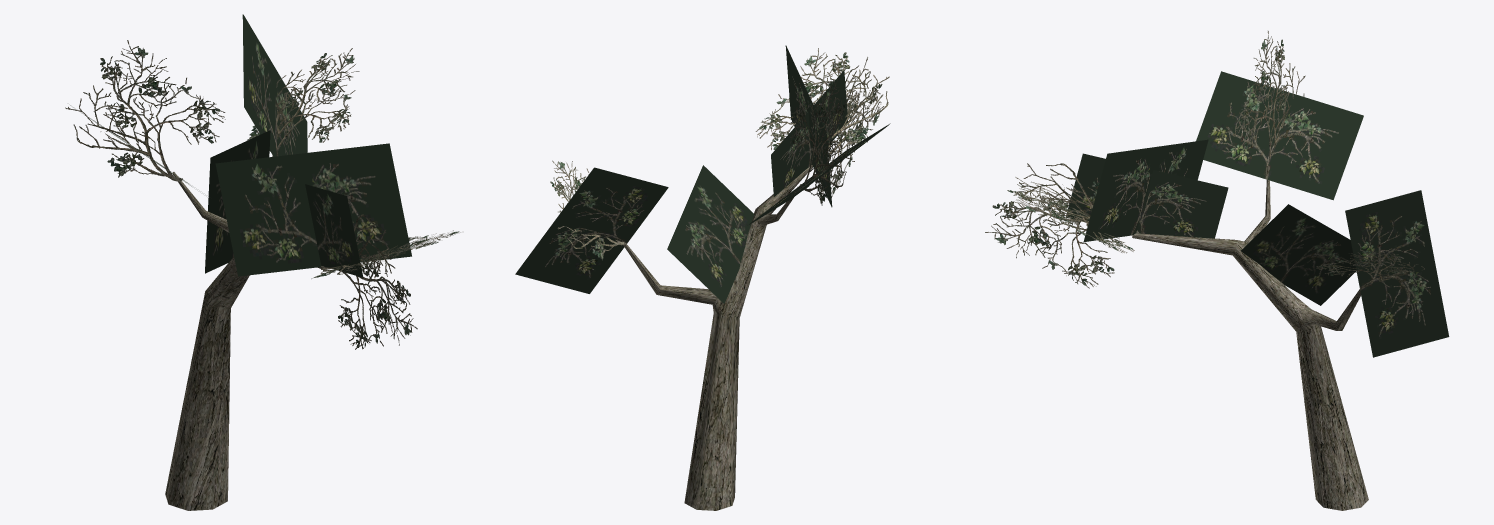
File: mtns_shrb_gnarled_a1_l1.fbx
3 renders of one model, left to right at view 1: azimuth 30°, elevation 25°; view 2: azimuth 150°, elevation 25°; view 3: azimuth 270°, elevation 25°, orthographic. The views are drawn at different scales.
Parts seen in each view (by area): view 1: mesh_node; view 2: mesh_node; view 3: mesh_node.
Part boxes in pixels (left/top/right/bottom): mesh_node: left=65, top=14, right=460, bottom=510; mesh_node: left=515, top=45, right=890, bottom=510; mesh_node: left=985, top=31, right=1449, bottom=510.
Bounding box in the file's own units: 3.55 × 4.87 × 5.11.
